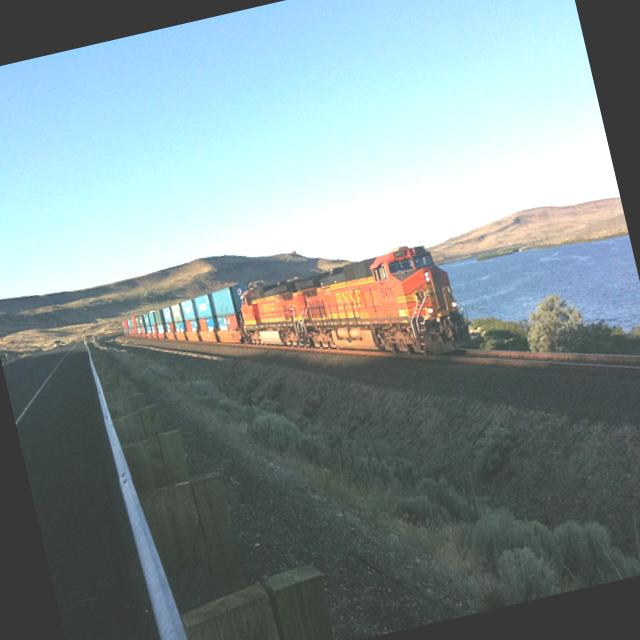Vehicle: (51, 338, 63, 348)
